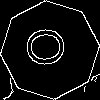O: (25, 25, 75, 68)
